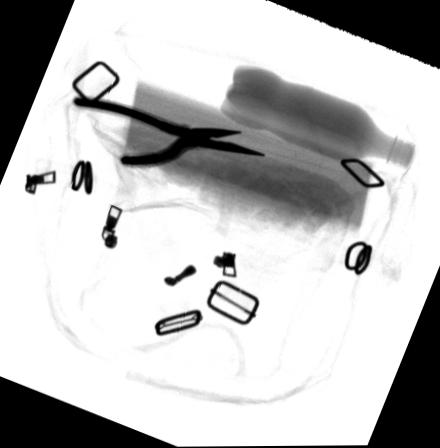Pliers: (69, 94, 266, 168)
